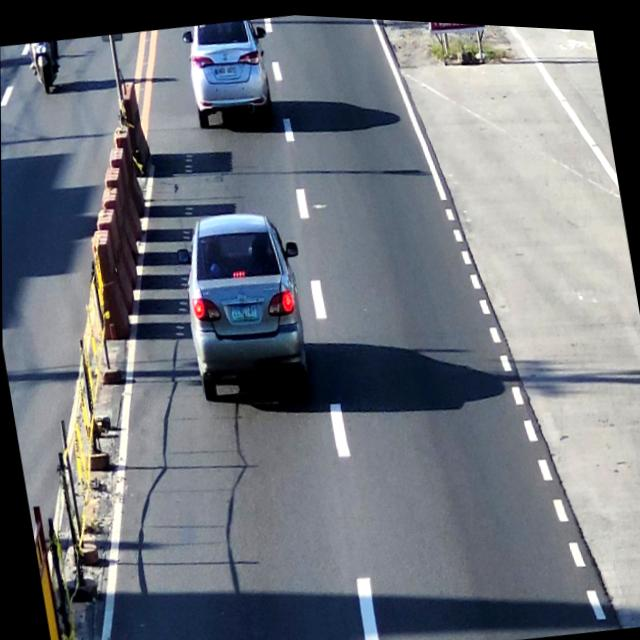Car: (171, 199, 317, 407), (181, 13, 277, 132)
License-Plate: (230, 296, 261, 322), (213, 59, 239, 77)
